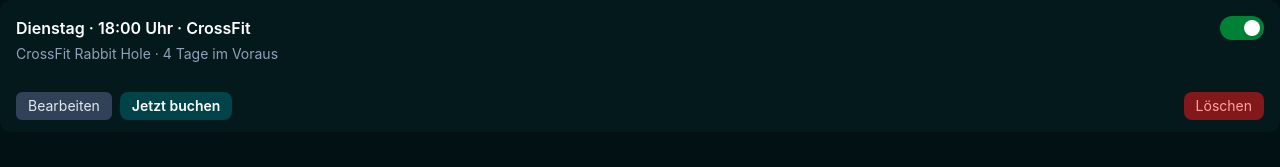
Test case: JobCard › onExecute › zeigt already_booked Meldung
The image size is (1280, 167).
Click the button "Jetzt buchen" at (176, 106), box x1=120 y1=92 x2=232 y2=120
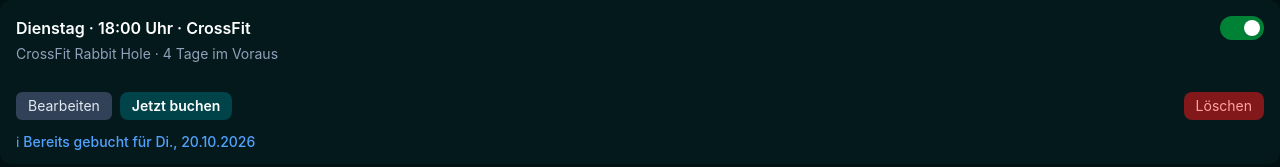
Check: the text "ℹ Bereits gebucht für Di., 20.10.2026" is shown, box x1=16 y1=133 x2=255 y2=150
